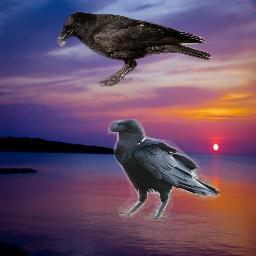Crow: (55, 11, 212, 87), (107, 119, 220, 221)
